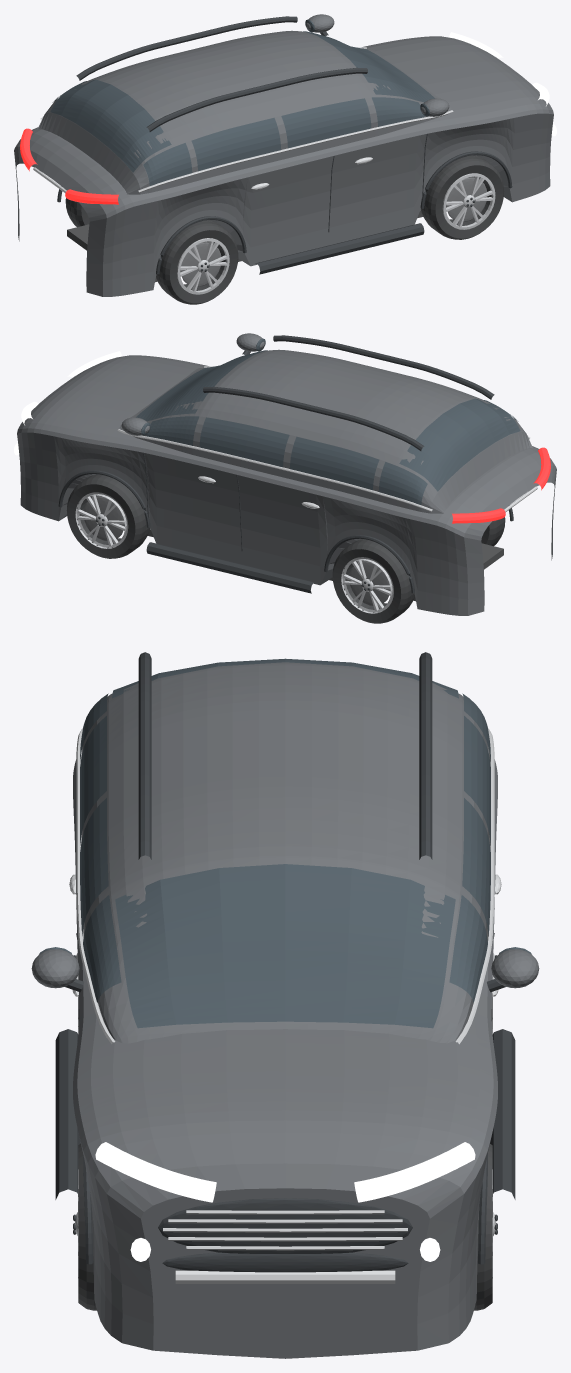
File: car_suv.glb
3 renders of one model, top to bottom at view 1: azimuth 30°, elevation 25°; view 2: azimuth 150°, elevation 25°; view 3: azimuth 270°, elevation 25°, orthographic. The views are drawn at different scales.
Parts seen in each view (by area): view 1: Body_sculpted, Cabin_painted, Rear_window, Tyre_L_F, Tyre_L_R, Side_glass_1_1, Side_glass_1_2, Windshield, Running_board_1, Roof_rail_-1, Roof_rail_1, Side_glass_1_0 (+14 smaller); view 2: Body_sculpted, Cabin_painted, Rear_window, Tyre_R_F, Tyre_R_R, Side_glass_-1_1, Side_glass_-1_2, Windshield, Running_board_-1, Roof_rail_1, Roof_rail_-1, Side_glass_-1_0 (+14 smaller); view 3: Body_sculpted, Cabin_painted, Windshield, Front_fascia, Grille, Lower_intake, Running_board_-1, Running_board_1, Roof_rail_-1, Roof_rail_1, Skid_plate, Front_lamp_1 (+19 smaller).
Part boxes in pixels (x1,y1,x2,y2): Body_sculpted: (14,36,553,296); Cabin_painted: (37,30,451,194); Rear_window: (50,79,171,172); Tyre_L_F: (421,155,504,239); Tyre_L_R: (156,220,238,304); Side_glass_1_1: (191,117,280,171); Side_glass_1_2: (281,98,371,148); Windshield: (303,31,434,102); Running_board_1: (255,223,424,274); Roof_rail_-1: (76,16,297,80); Roof_rail_1: (146,67,367,131); Side_glass_1_0: (143,143,192,185); Body_sculpted: (17,355,556,615); Cabin_painted: (119,349,532,513); Rear_window: (399,398,520,491); Tyre_R_F: (66,474,149,558); Tyre_R_R: (332,539,414,623); Side_glass_-1_1: (290,436,379,490); Side_glass_-1_2: (199,417,289,467); Windshield: (136,350,267,421); Running_board_-1: (146,542,315,593); Roof_rail_1: (273,335,494,399); Roof_rail_-1: (203,386,424,450); Side_glass_-1_0: (378,462,427,504); Body_sculpted: (73,747,497,1350); Cabin_painted: (81,662,489,1043); Windshield: (115,864,455,1028); Front_fascia: (141,1188,429,1358); Grille: (158,1198,412,1253); Lower_intake: (162,1252,408,1272); Running_board_-1: (490,1029,515,1199); Running_board_1: (55,1029,80,1199); Roof_rail_-1: (419,652,432,859); Roof_rail_1: (138,652,151,859); Skid_plate: (175,1270,395,1283); Front_lamp_1: (95,1142,216,1202).
Bounding box in the file's own units: 4.8 × 1.83 × 2.22.
